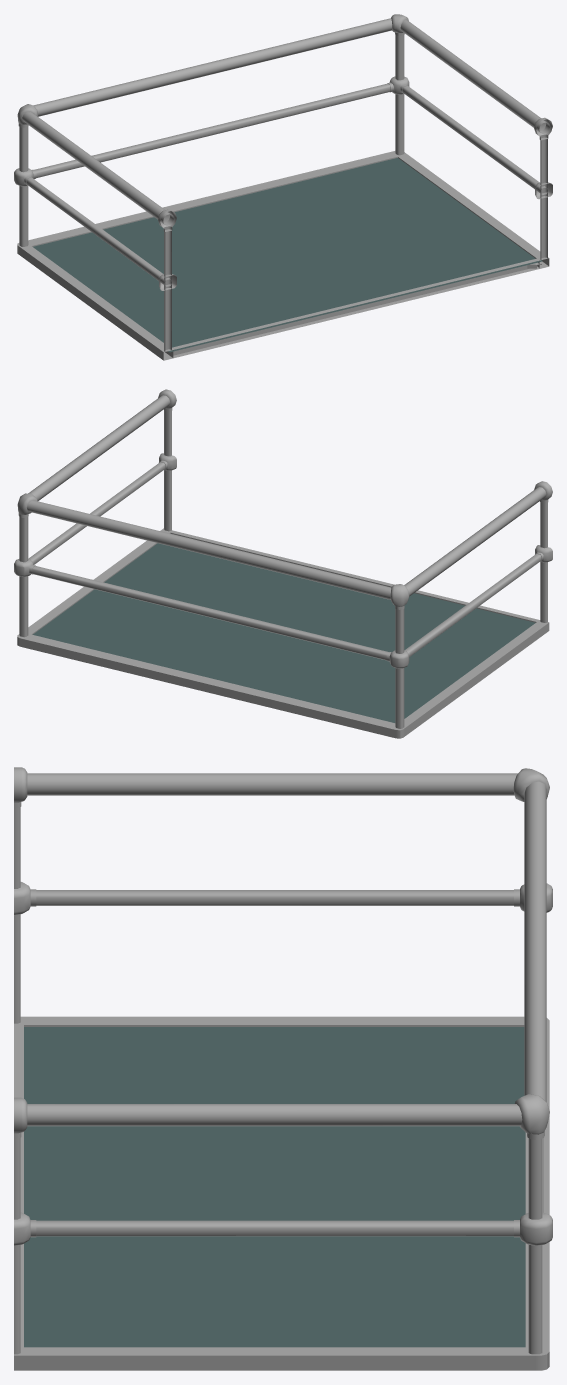
The model's file is RailWalk_EndClosed.fbx.
The picture shows the model from 3 angles, top to bottom: view 1: azimuth 30°, elevation 25°; view 2: azimuth 150°, elevation 25°; view 3: azimuth 270°, elevation 25°; orthographic projection. The views are drawn at different scales.
Visible parts, largest first — view 1: glass04, lineplank09 (×2), Mainrailing13, midrailing15, lineplank01, Mainrailing, Mainrailing4, lineplank15, midrailing05, midrailing01, lineplank04, Railingvert5 (+5 smaller); view 2: glass04, lineplank09 (×2), Mainrailing13, midrailing15, lineplank01, Mainrailing, Mainrailing4, midrailing01, midrailing05, lineplank15, lineplank04, Railingvert5 (+5 smaller); view 3: glass04, lineplank15, Mainrailing4, Mainrailing, midrailing05, midrailing01, Mainrailing13, lineplank01, lineplank09 (×2), Railingvert5, RailingJoint38, RailingJoint37 (+3 smaller).
Part boxes in pixels (box(x1,y1,x2,y2)): glass04: box(33, 158, 542, 352); lineplank09 (×2): box(17, 151, 539, 358); Mainrailing13: box(33, 18, 392, 116); midrailing15: box(34, 83, 390, 177); lineplank01: box(19, 244, 173, 360); Mainrailing: box(22, 112, 173, 225); Mainrailing4: box(400, 20, 549, 133); lineplank15: box(395, 152, 549, 268); midrailing05: box(402, 86, 547, 194); midrailing01: box(26, 177, 171, 286); lineplank04: box(29, 154, 397, 246); Railingvert5: box(395, 35, 404, 155); glass04: box(33, 543, 535, 722); lineplank09 (×2): box(17, 530, 539, 738); Mainrailing13: box(27, 500, 391, 599); midrailing15: box(32, 566, 389, 660); lineplank01: box(403, 620, 549, 736); Mainrailing: box(404, 487, 546, 596); Mainrailing4: box(28, 395, 170, 500); midrailing01: box(404, 553, 541, 656); midrailing05: box(29, 462, 165, 564); lineplank15: box(27, 528, 172, 636); lineplank04: box(29, 634, 395, 725); Railingvert5: box(19, 517, 28, 637); glass04: box(24, 1027, 525, 1347); lineplank15: box(14, 1347, 535, 1370); Mainrailing4: box(27, 1104, 522, 1126); Mainrailing: box(27, 773, 517, 795); midrailing05: box(36, 1220, 513, 1236); midrailing01: box(36, 890, 513, 905); Mainrailing13: box(524, 781, 546, 1101); lineplank01: box(14, 1016, 524, 1026); lineplank09 (×2): box(14, 1018, 549, 1370); Railingvert5: box(528, 1138, 542, 1354); RailingJoint38: box(513, 768, 549, 1139); RailingJoint37: box(514, 883, 552, 1245).
Size of the model in its own units: 1.57 by 0.5638 by 1.03.
